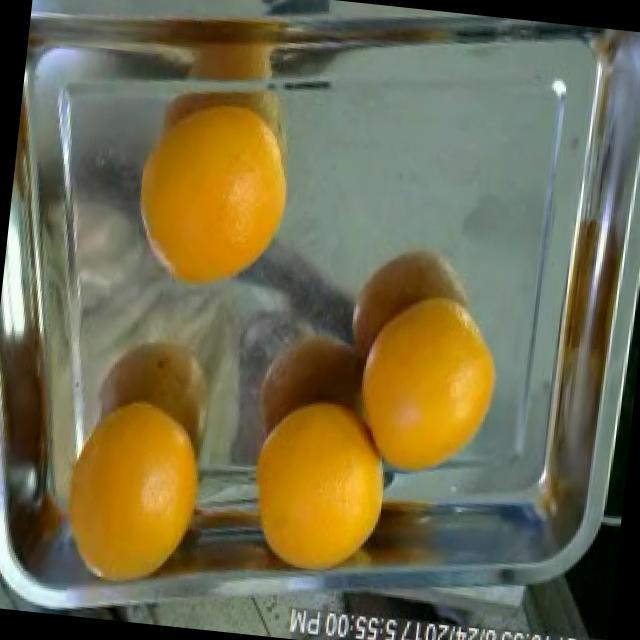Fruit: (105, 75, 314, 318), (332, 264, 522, 504), (226, 365, 416, 602), (45, 376, 230, 618)
